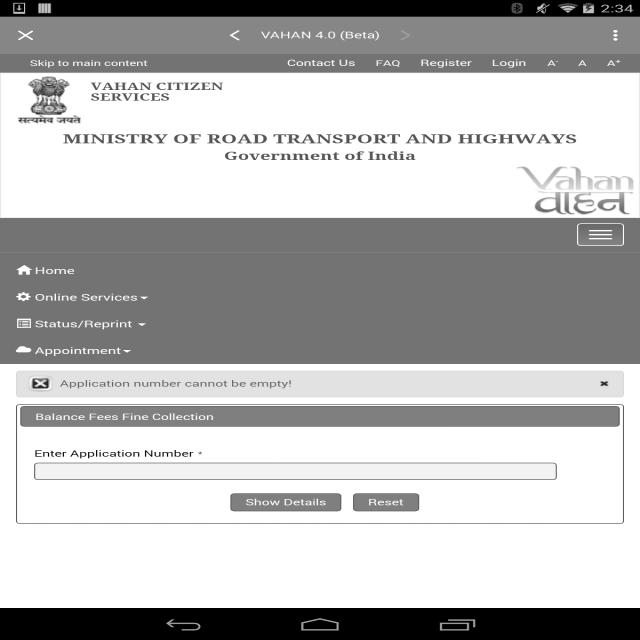Button: (230, 493, 342, 512), (353, 453, 420, 472), (577, 223, 624, 246)
EditText: (34, 462, 558, 480)
ImageButton: (0, 17, 51, 54), (209, 17, 260, 54), (380, 17, 431, 54), (589, 17, 640, 54)
ProgressBar: (0, 53, 640, 54)
TextView: (260, 30, 380, 40)
